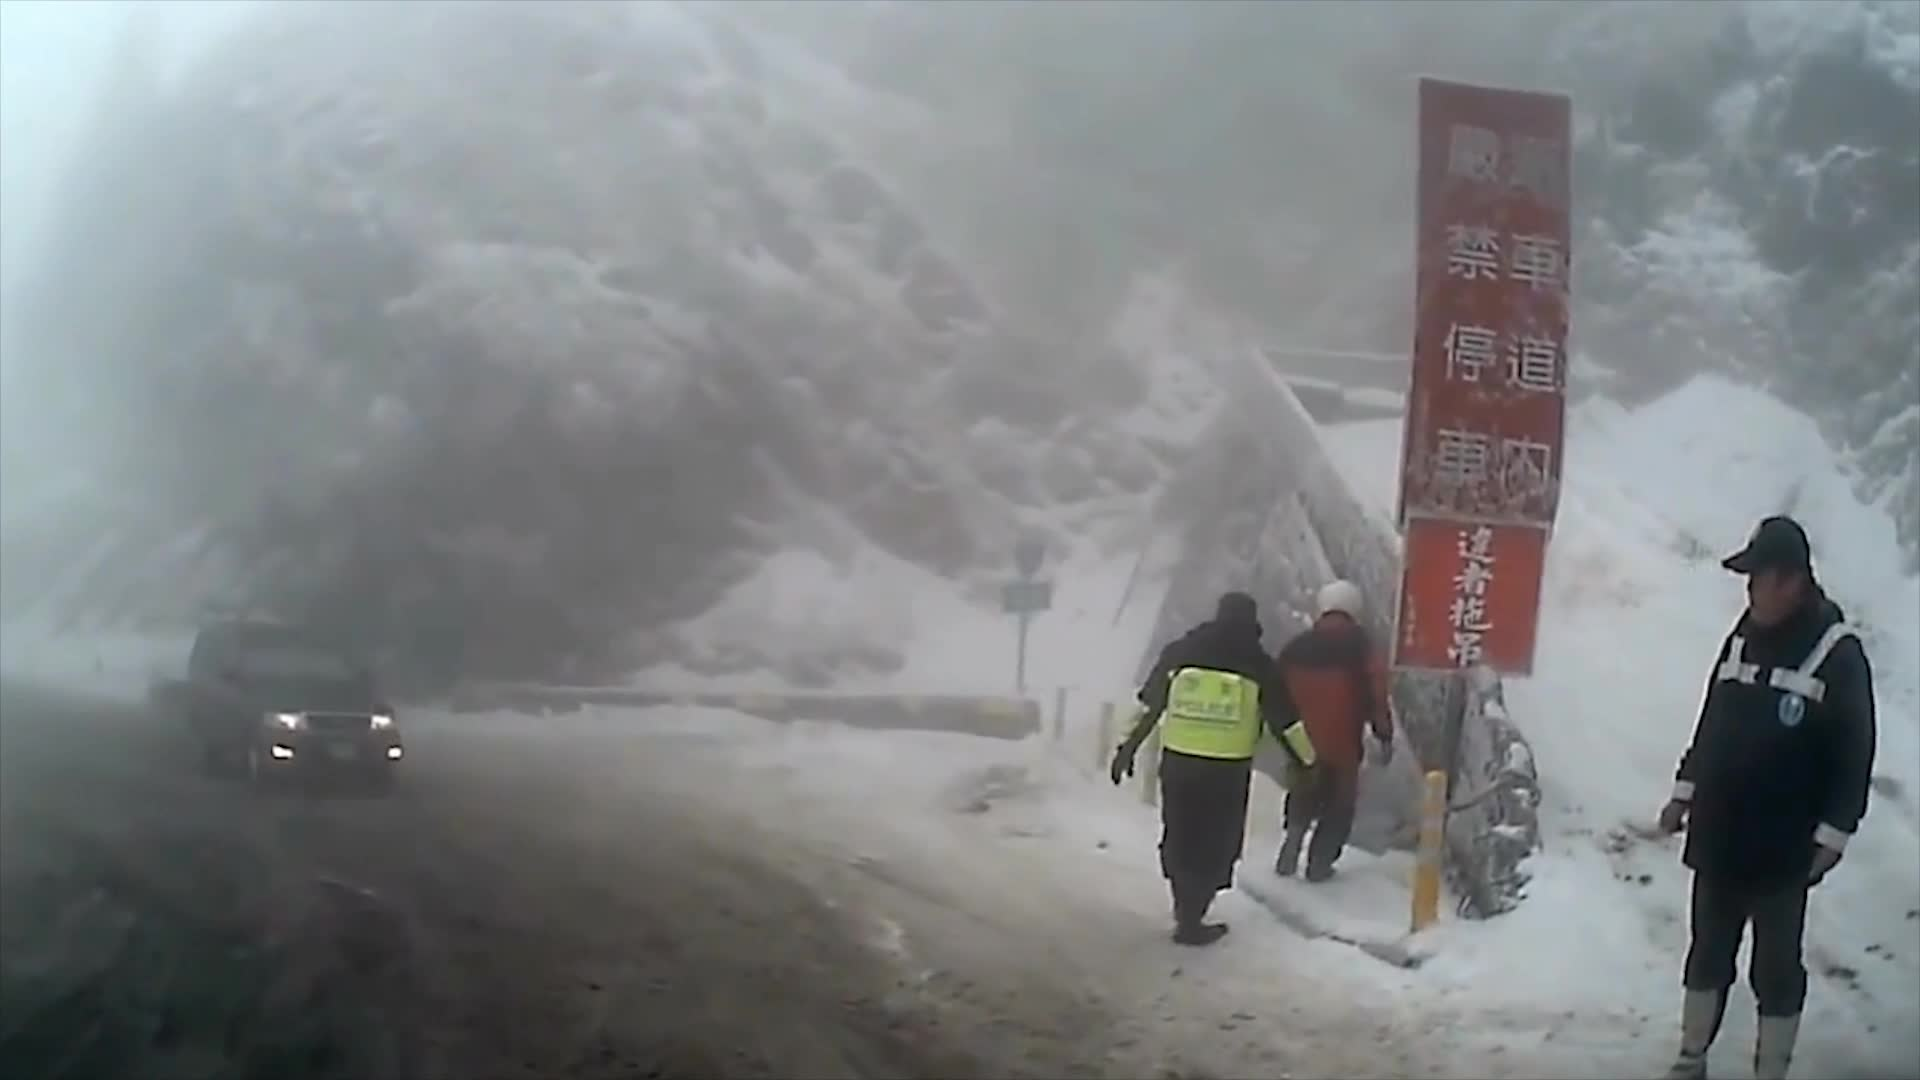pedestrian: (1659, 517, 1880, 1080), (1115, 590, 1312, 943), (1273, 576, 1396, 880)
vehicle: (186, 620, 406, 795)
